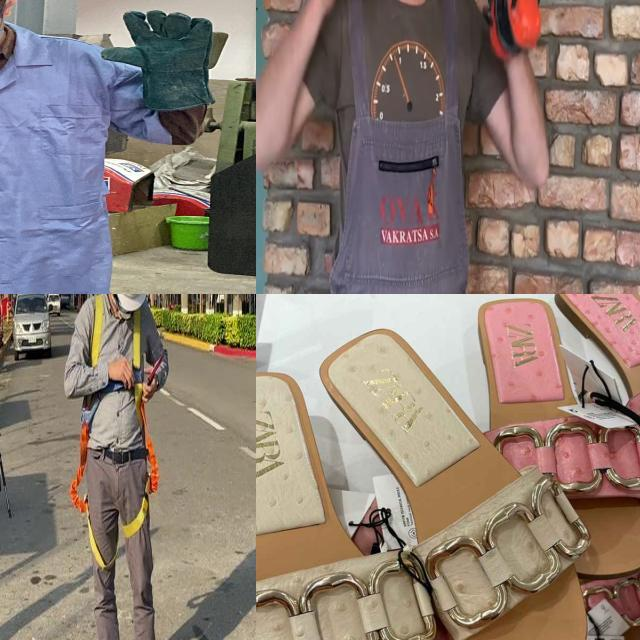Harness: (81, 295, 144, 430), (69, 421, 117, 571), (123, 401, 160, 540)
Sandals: (256, 294, 625, 640), (448, 294, 640, 607)
hand_glove: (92, 5, 222, 84)
person: (0, 0, 249, 294)
